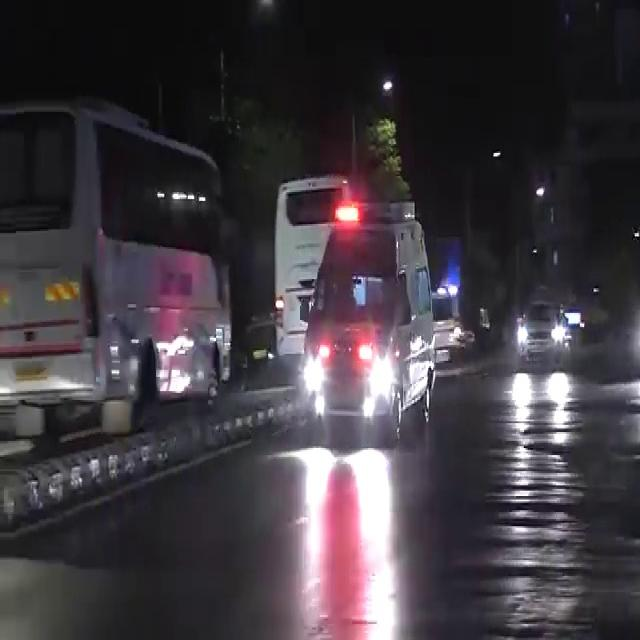ambulance: (307, 208, 442, 419)
